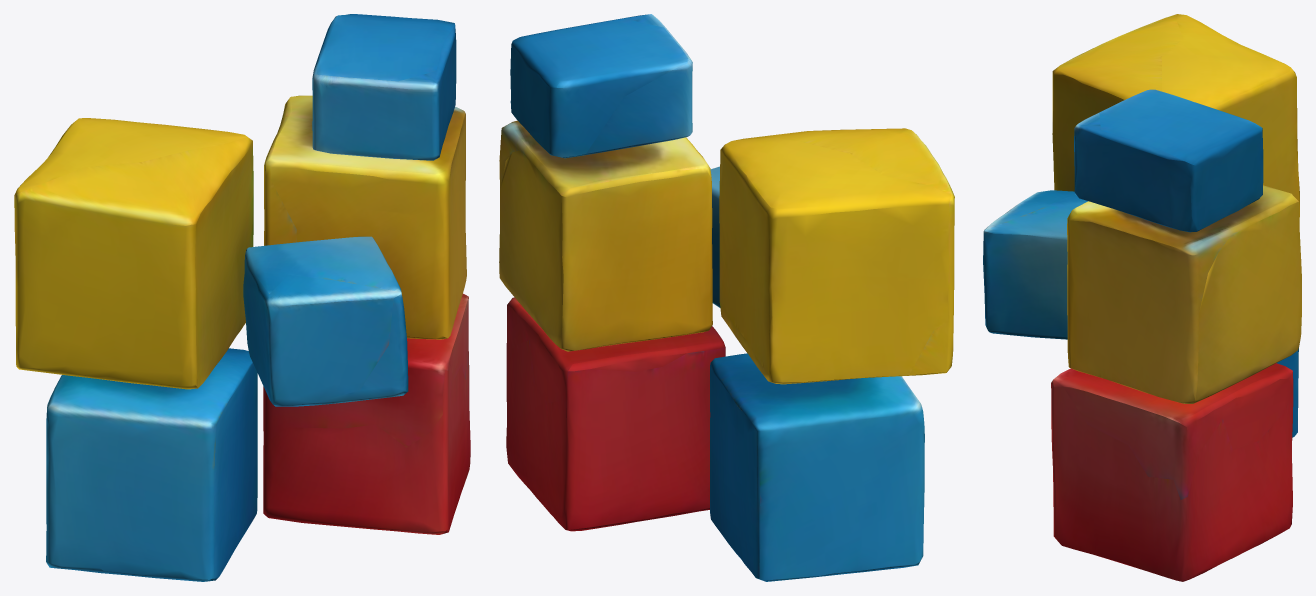
File: toyBlocksPlainT.glb
The picture shows the model from 3 angles, left to right: view 1: azimuth 30°, elevation 25°; view 2: azimuth 150°, elevation 25°; view 3: azimuth 270°, elevation 25°; orthographic projection. The views are drawn at different scales.
Visible parts, largest first — view 1: model; view 2: model; view 3: model.
Boxes of the visible parts, x1,y1,x2,y2 form: model: (14,14,470,581); model: (499,14,954,581); model: (983,14,1301,581).
Bounding box in the file's own units: 1.9 × 1.81 × 1.22.
Materials: 1 (1 with a texture image).
